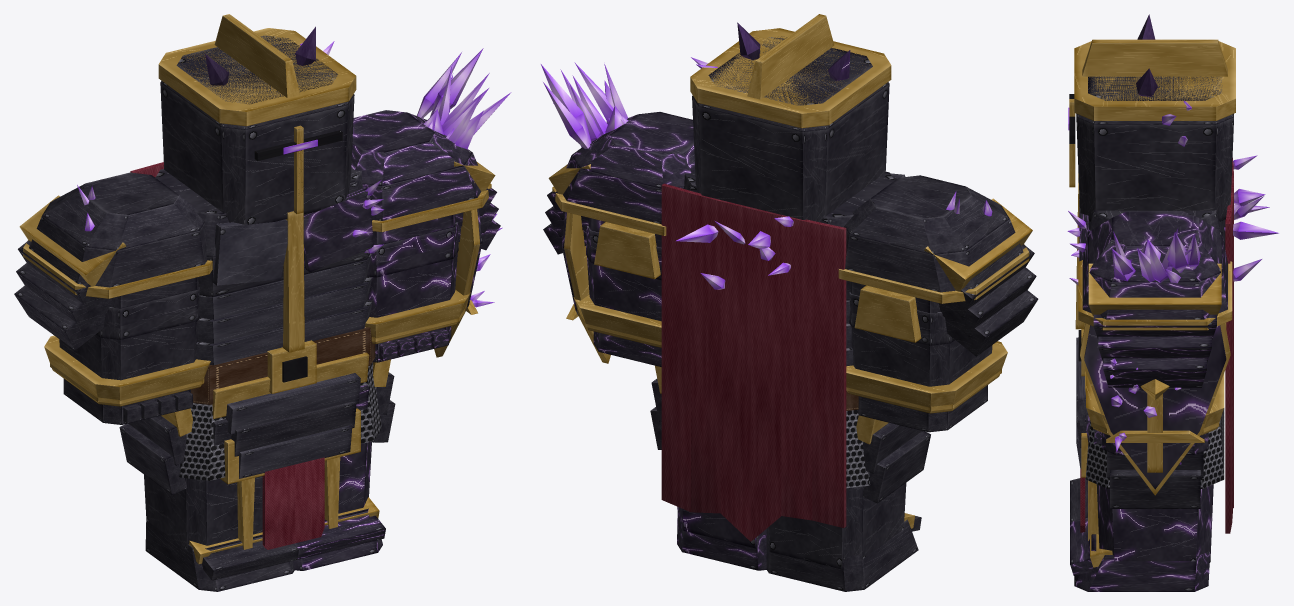
The model's file is KnightHigh.fbx.
3 renders of one model, left to right at view 1: azimuth 30°, elevation 25°; view 2: azimuth 150°, elevation 25°; view 3: azimuth 270°, elevation 25°, orthographic.
Visible parts, largest first — view 1: Head_Armor, LowerTorso_Armor, UpperTorso_Armor, RightUpperArm_Armor, LeftUpperArm_Armor, RightLowerLeg_Armor, RightLowerArm_Armor, RightHand_Armor, RightFoot_Armor, LeftLowerArm_Armor, LeftHand_Armor, LeftUpperArm_Glow (+5 smaller); view 2: UpperTorso_Armor, Head_Armor, RightUpperArm_Armor, LeftUpperArm_Armor, RightLowerArm_Armor, RightHand_Armor, LeftLowerArm_Armor, LowerTorso_Armor, RightLowerLeg_Armor, RightFoot_Armor, LeftUpperArm_Glow, LeftHand_Armor (+4 smaller); view 3: Head_Armor, LeftUpperArm_Armor, LeftLowerArm_Shield, LowerTorso_Armor, LeftLowerLeg_Armor, LeftFoot_Armor, UpperTorso_Armor, LeftUpperArm_Glow, UpperTorso_Glow, LeftHand_Armor, RightFoot_Armor, Head_Glow (+1 smaller).
Part boxes in pixels (left/top/right/bottom): Head_Armor: left=158, top=14, right=356, bottom=224; LowerTorso_Armor: left=119, top=327, right=395, bottom=549; UpperTorso_Armor: left=130, top=162, right=373, bottom=365; RightUpperArm_Armor: left=14, top=172, right=212, bottom=350; LeftUpperArm_Armor: left=351, top=110, right=500, bottom=277; RightLowerLeg_Armor: left=144, top=439, right=264, bottom=549; RightLowerArm_Armor: left=50, top=287, right=204, bottom=404; RightHand_Armor: left=44, top=335, right=210, bottom=424; RightFoot_Armor: left=145, top=520, right=298, bottom=591; LeftLowerArm_Armor: left=367, top=222, right=464, bottom=341; LeftHand_Armor: left=365, top=290, right=470, bottom=362; LeftUpperArm_Glow: left=417, top=48, right=511, bottom=149; UpperTorso_Armor: left=661, top=170, right=905, bottom=541; Head_Armor: left=690, top=14, right=891, bottom=222; RightUpperArm_Armor: left=838, top=175, right=1038, bottom=356; LeftUpperArm_Armor: left=543, top=112, right=695, bottom=280; RightLowerArm_Armor: left=846, top=285, right=1001, bottom=411; RightHand_Armor: left=846, top=341, right=1007, bottom=432; LeftLowerArm_Armor: left=579, top=222, right=661, bottom=345; LowerTorso_Armor: left=650, top=365, right=930, bottom=503; RightLowerLeg_Armor: left=766, top=483, right=906, bottom=569; RightFoot_Armor: left=766, top=513, right=921, bottom=591; LeftUpperArm_Glow: left=541, top=62, right=628, bottom=148; LeftHand_Armor: left=573, top=294, right=661, bottom=366; Head_Armor: left=1069, top=14, right=1235, bottom=221; LeftUpperArm_Armor: left=1078, top=211, right=1232, bottom=387; LeftLowerArm_Shield: left=1080, top=323, right=1230, bottom=495; LowerTorso_Armor: left=1076, top=329, right=1224, bottom=532; LeftLowerLeg_Armor: left=1081, top=433, right=1213, bottom=562; LeftFoot_Armor: left=1070, top=517, right=1210, bottom=591; UpperTorso_Armor: left=1075, top=158, right=1233, bottom=533; LeftUpperArm_Glow: left=1111, top=229, right=1200, bottom=283; UpperTorso_Glow: left=1067, top=155, right=1278, bottom=285; LeftHand_Armor: left=1086, top=373, right=1224, bottom=454; RightFoot_Armor: left=1070, top=477, right=1087, bottom=522; Head_Glow: left=1068, top=101, right=1191, bottom=146.
Size of the model in its own units: 532 by 566 by 215.
3 materials, 3 textured.
